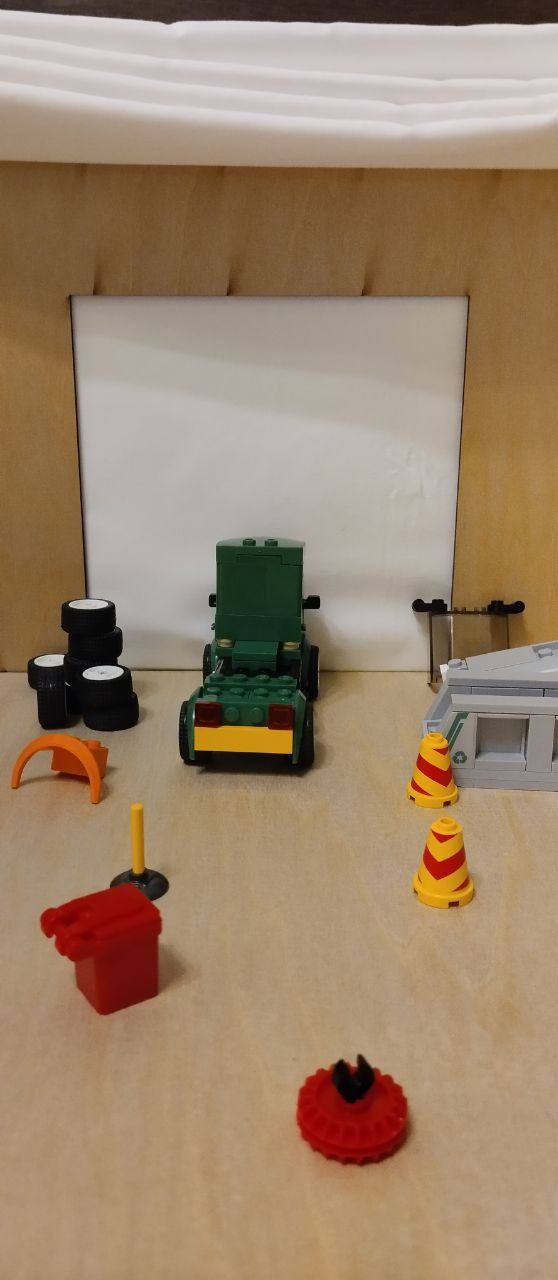Cone: (405, 817, 487, 917), (406, 731, 467, 811)
Object Red: (39, 869, 167, 1020)
Truck: (173, 534, 333, 786)
